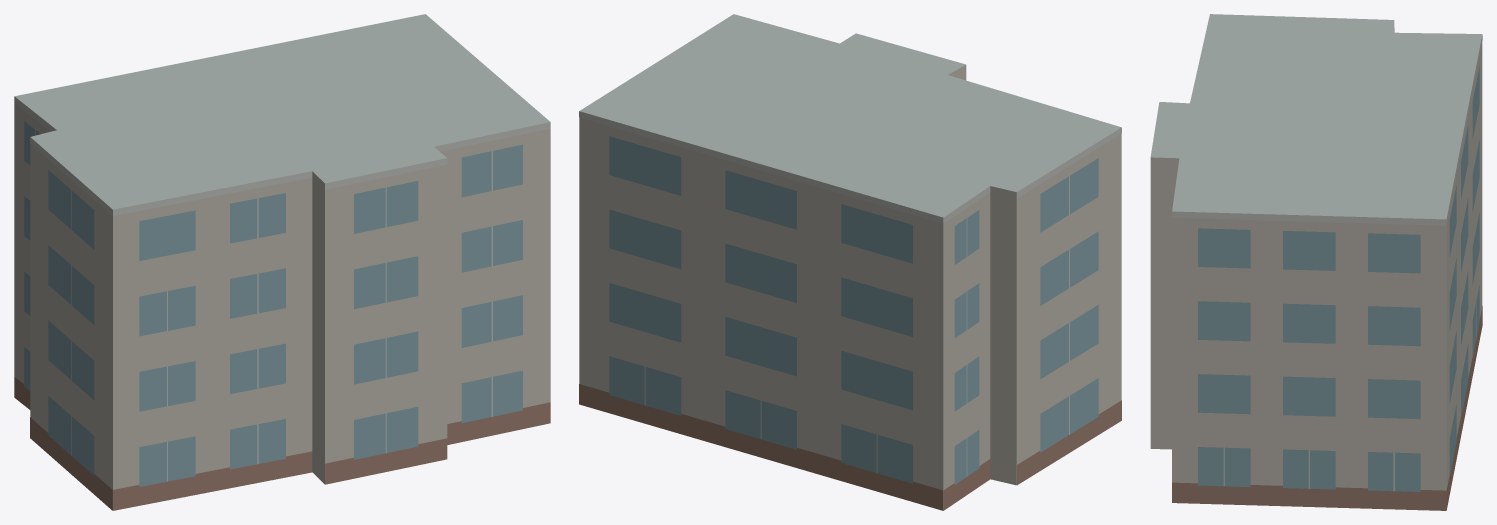
Rendered from survey-upis-32841647.glb.
The picture shows the model from 3 angles, left to right: view 1: azimuth 30°, elevation 25°; view 2: azimuth 150°, elevation 25°; view 3: azimuth 270°, elevation 25°; orthographic projection. The views are drawn at different scales.
Visible parts, largest first — view 1: survey-upis-32841647.tmp; view 2: survey-upis-32841647.tmp; view 3: survey-upis-32841647.tmp.
Boxes of the visible parts, left/top/right/bottom form: survey-upis-32841647.tmp: left=14, top=14, right=550, bottom=510; survey-upis-32841647.tmp: left=579, top=14, right=1121, bottom=510; survey-upis-32841647.tmp: left=1150, top=14, right=1482, bottom=510.
Size of the model in its own units: 17.24 by 11.4 by 11.78.
